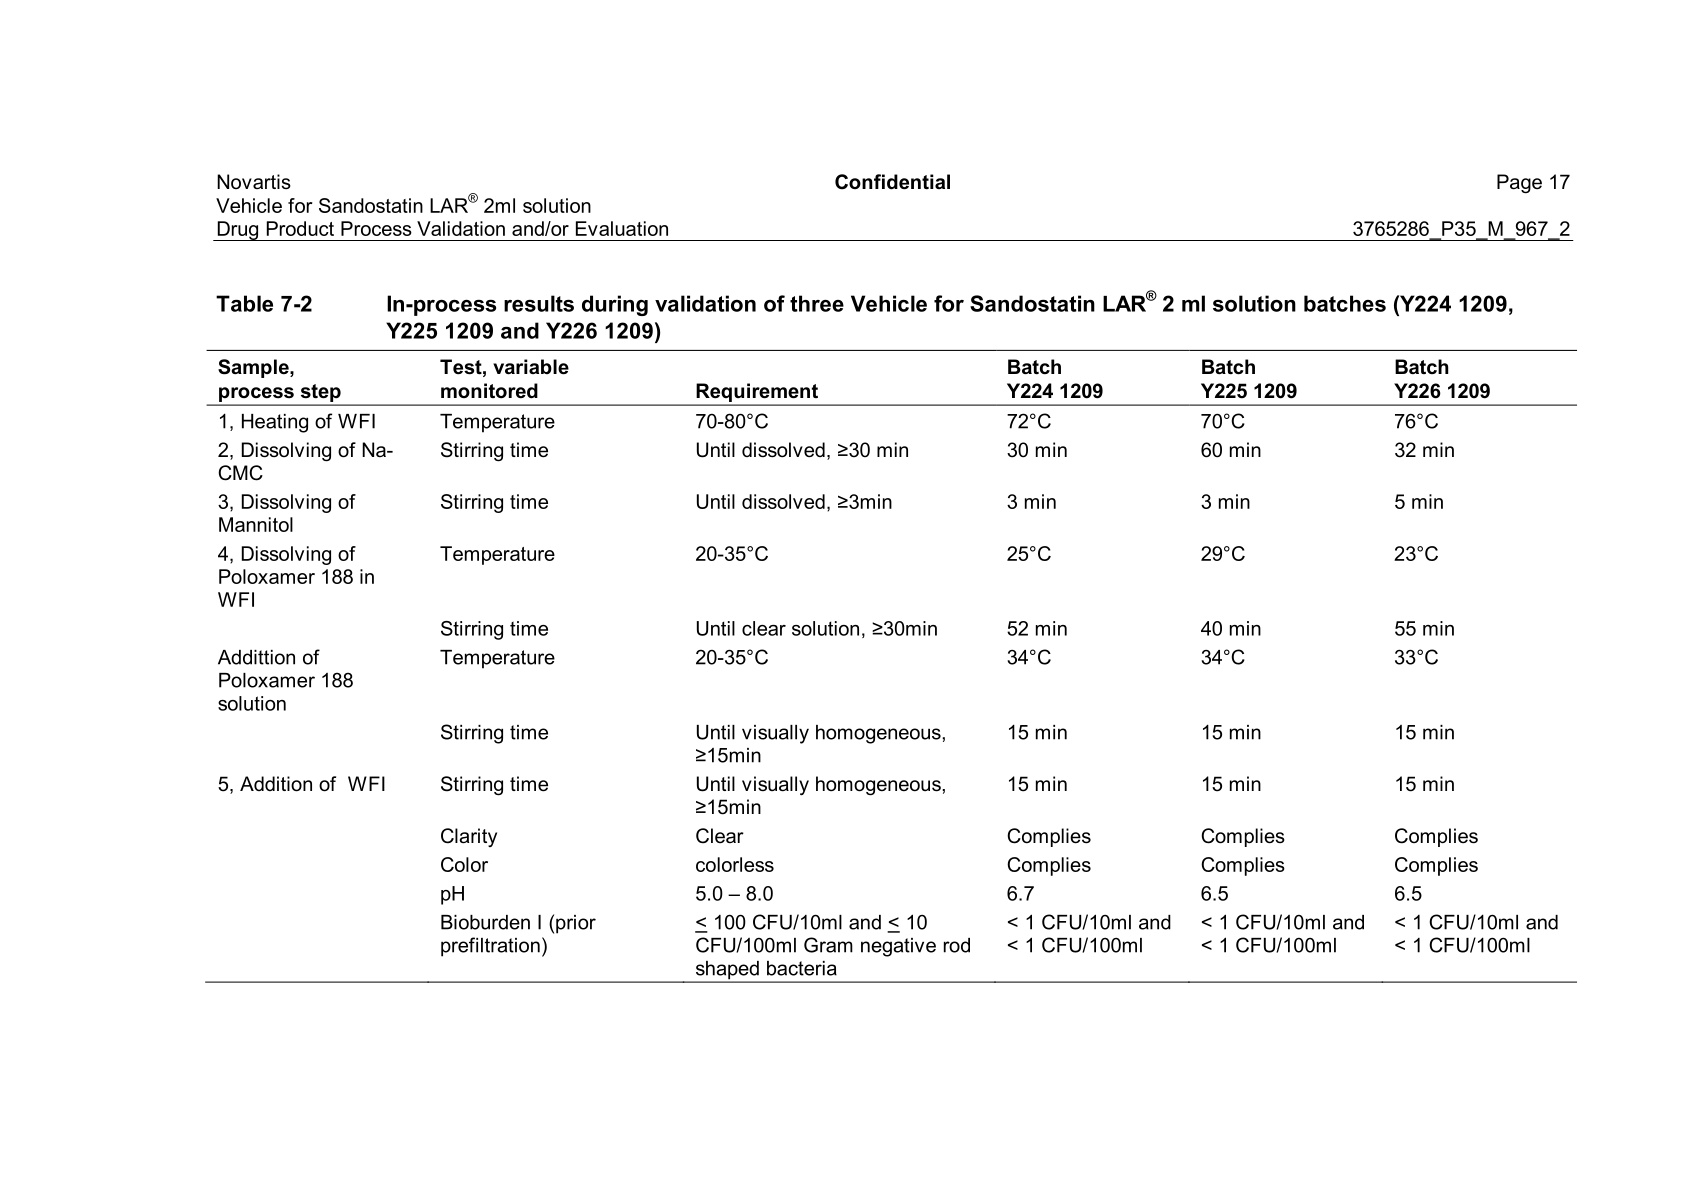partial_lined: (206, 348, 1580, 985)
